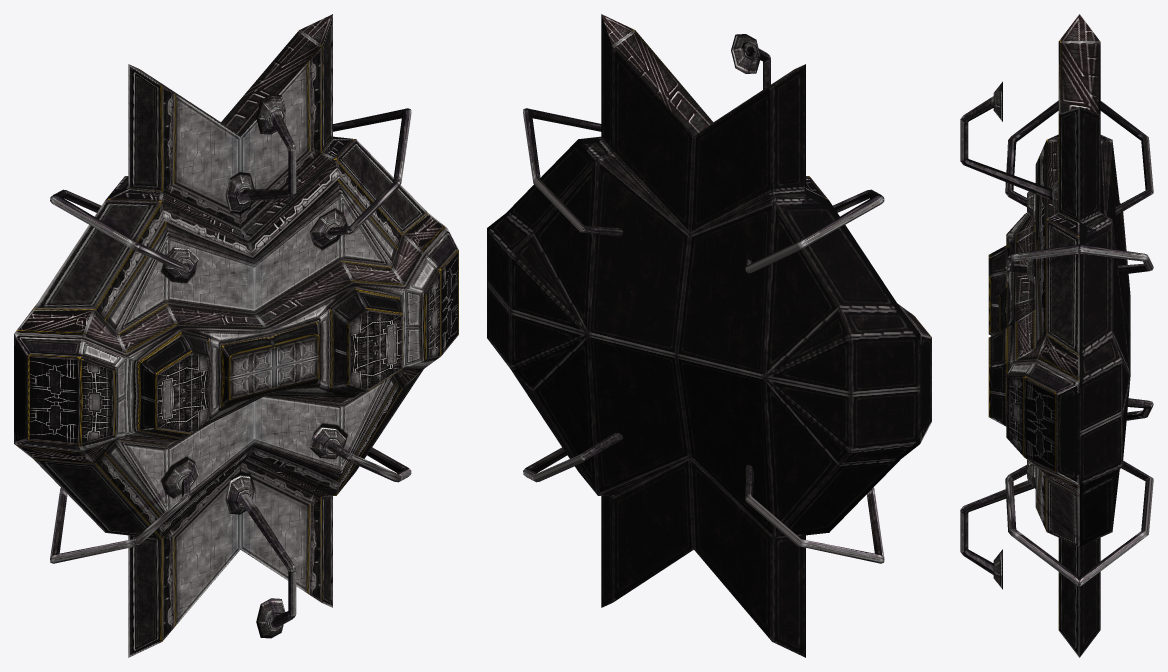
File: Junction_01.fbx
3 views of the same model, side by side, from view 1: azimuth 30°, elevation 25°; view 2: azimuth 150°, elevation 25°; view 3: azimuth 270°, elevation 25° (orthographic). The views are drawn at different scales.
Visible parts, largest first — view 1: polySurface380; view 2: polySurface380; view 3: polySurface380.
Part boxes in pixels (bbox=[...]): polySurface380: bbox=[14, 14, 458, 657]; polySurface380: bbox=[487, 14, 931, 657]; polySurface380: bbox=[960, 14, 1153, 657].
Size of the model in its own units: 18.23 by 23.89 by 7.6.
